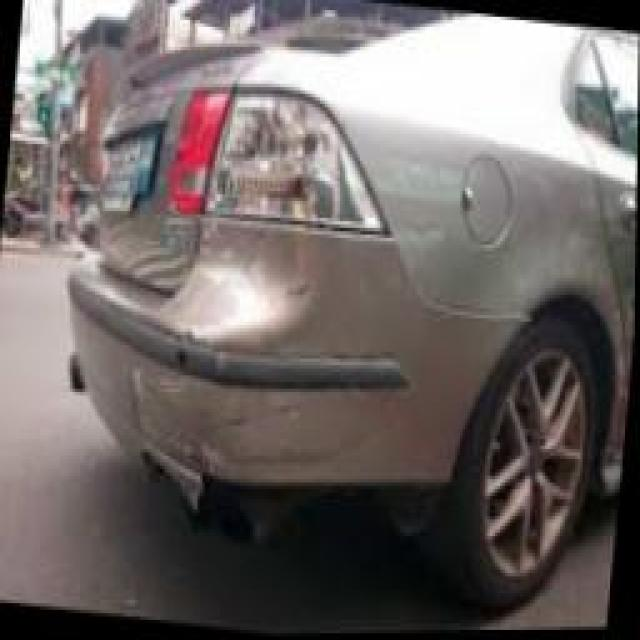Bumper: (137, 221, 453, 493)
Light: (216, 88, 384, 227)
